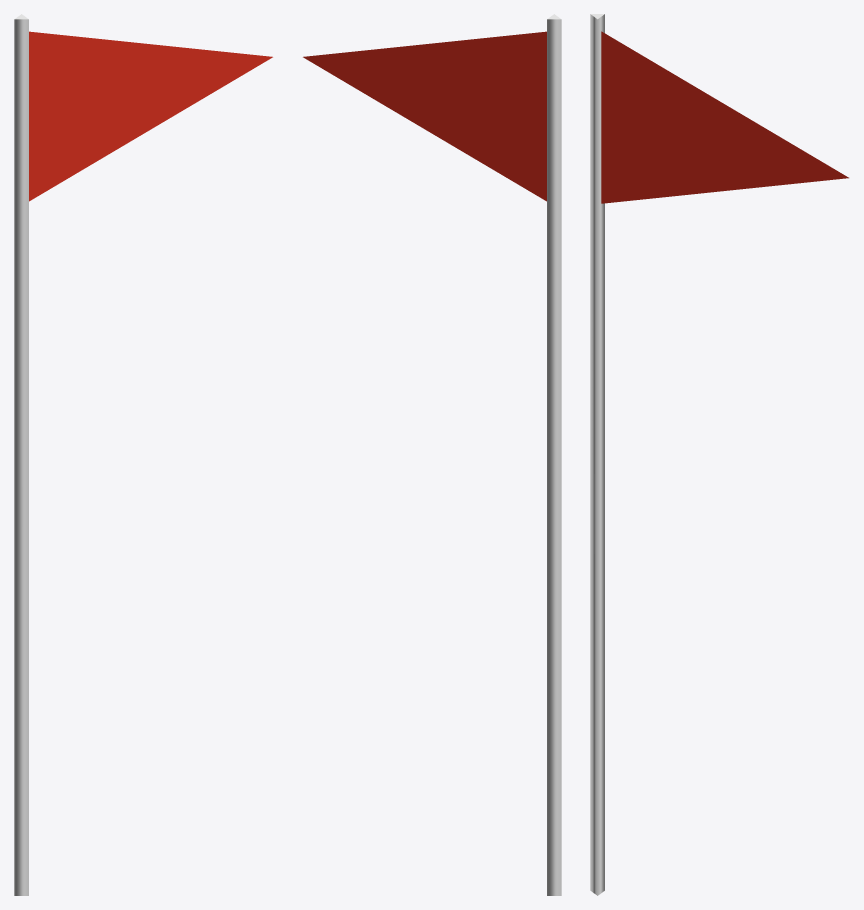
The model's file is red_flag.glb.
The picture shows the model from 3 angles, left to right: view 1: azimuth 30°, elevation 25°; view 2: azimuth 150°, elevation 25°; view 3: azimuth 330°, elevation 25°; orthographic projection.
Parts seen in each view (by area): view 1: Object_2; view 2: Object_2; view 3: Object_2.
Boxes of the visible parts, bbox=[...] form: Object_2: bbox=[14, 14, 272, 895]; Object_2: bbox=[303, 14, 561, 895]; Object_2: bbox=[590, 14, 848, 895].
Size of the model in its own units: 0.6175 by 1.99 by 0.0302.
1 material, 1 textured.
